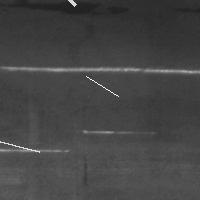scratches: (3, 61, 200, 80), (81, 71, 123, 101), (0, 134, 44, 157), (1, 144, 70, 156), (81, 126, 155, 135), (29, 0, 80, 10), (79, 152, 91, 189)
